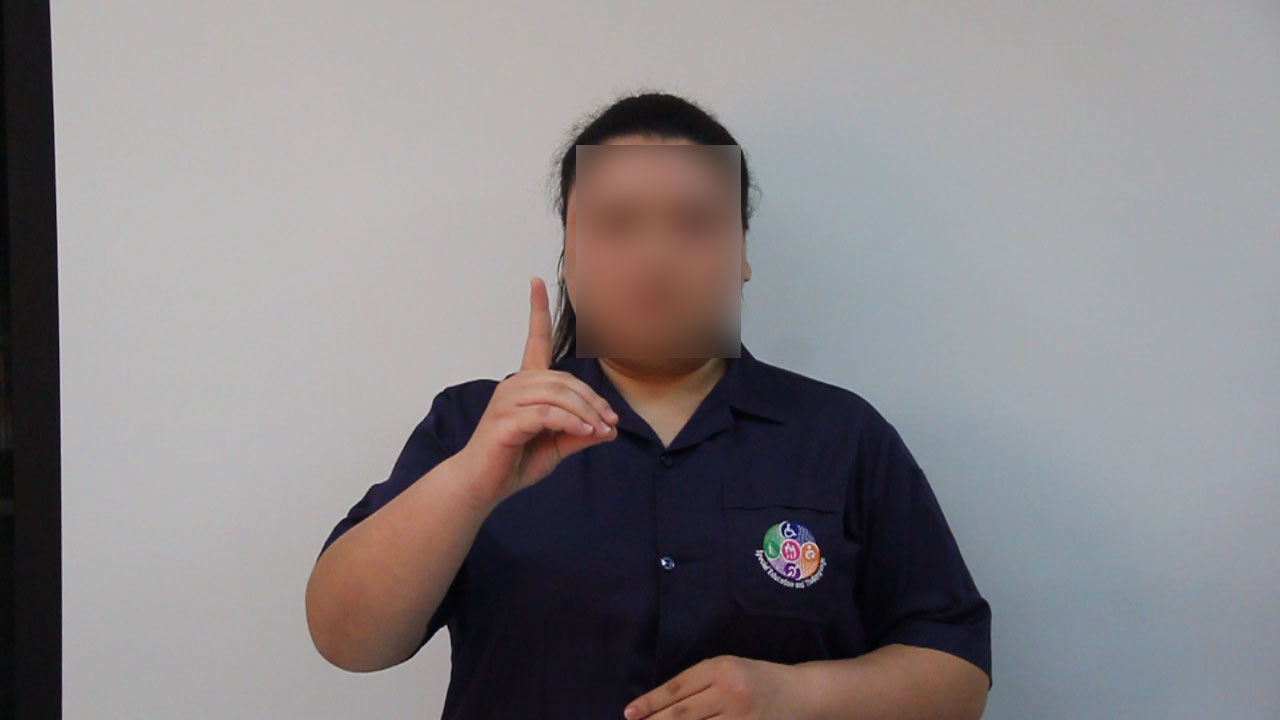dor: (428, 270, 624, 500)
